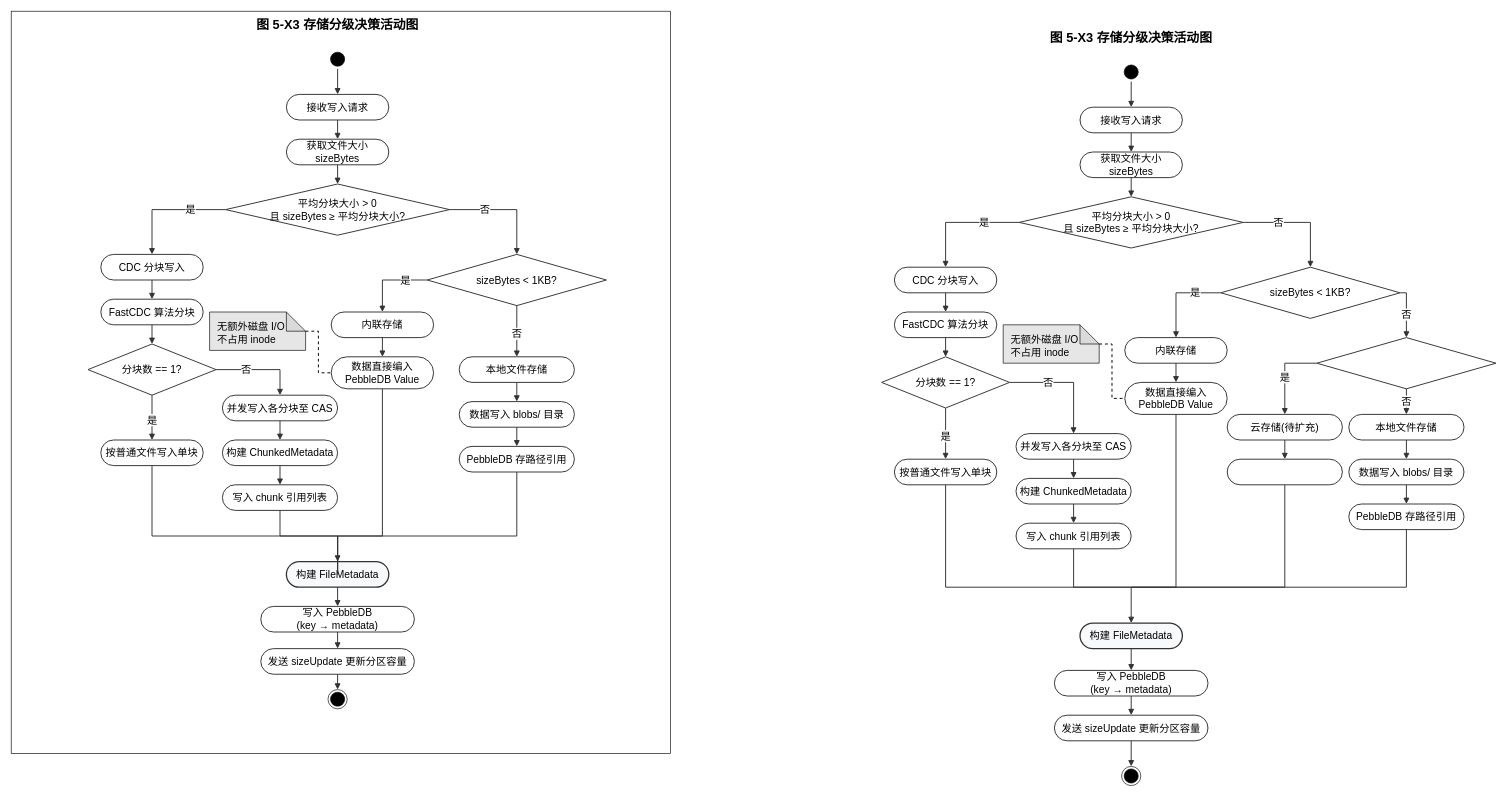
This 1508x797 diagram has some shape labels left out. The centre of each missing label's shape, as x and y in pixels:
"PebbleDB 存元数据引用" belongs at (1284,471).
"sizeBytes ≥ 云存储上限?" belongs at (1406,363).
